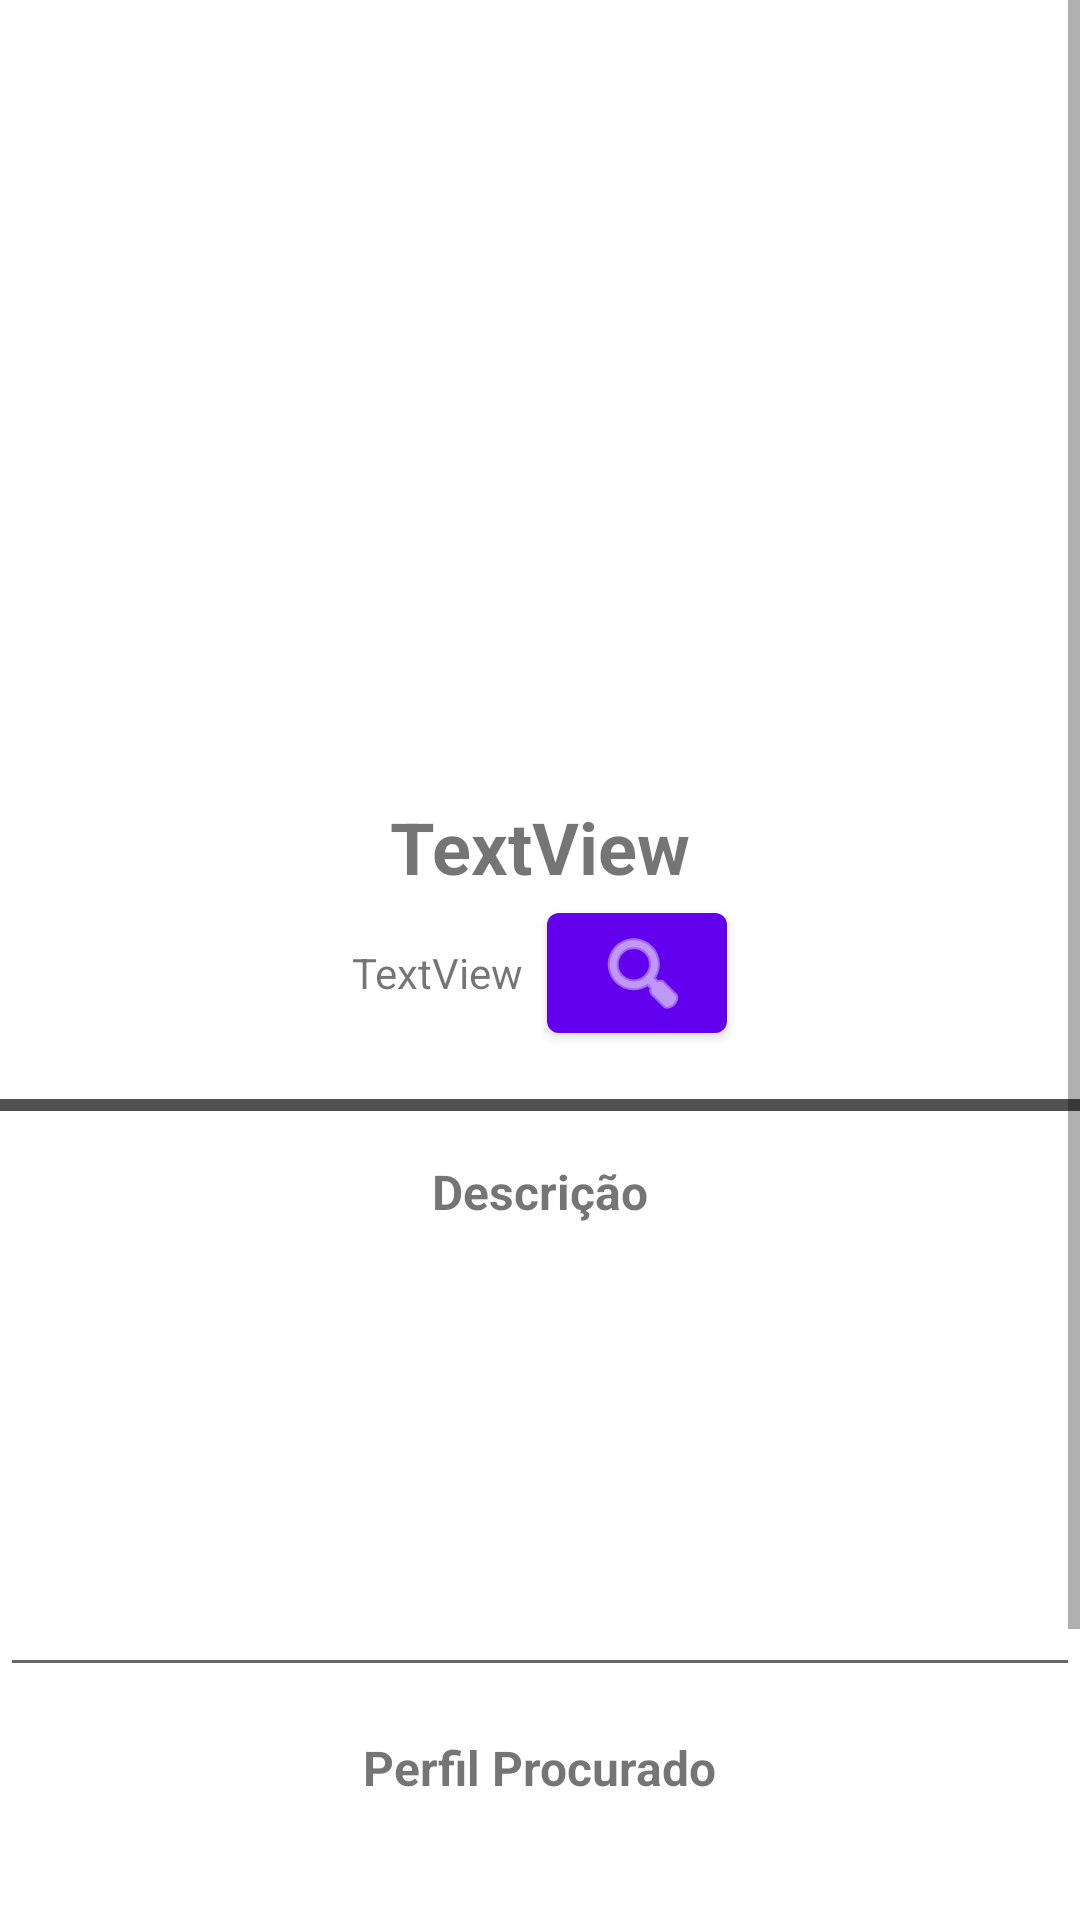

Icon click points for this 1080x1920 phone screenshot, format point (x, y):
search: point (637, 974)
